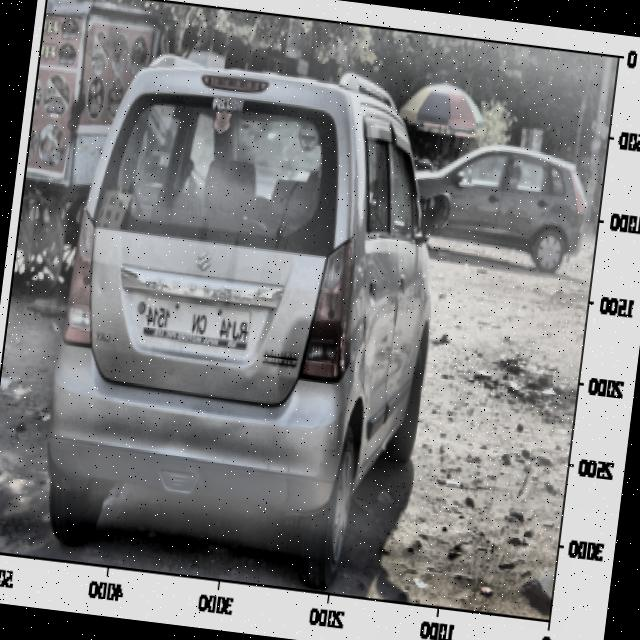license_plate: (136, 299, 252, 354)
